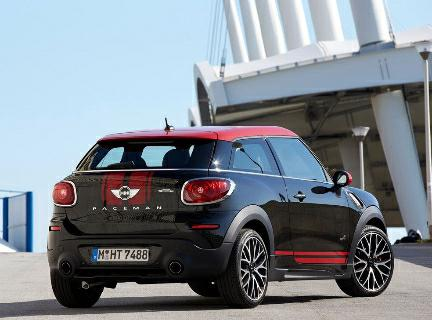MINI-JCWPACEMAN: (39, 134, 403, 300)
